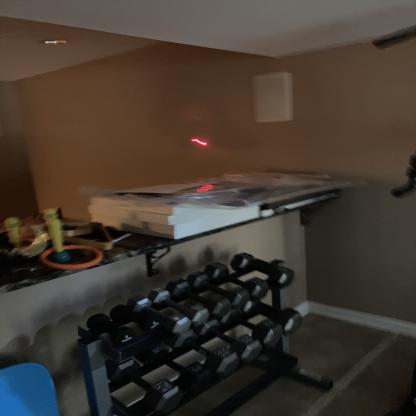target: (186, 135, 212, 148)
